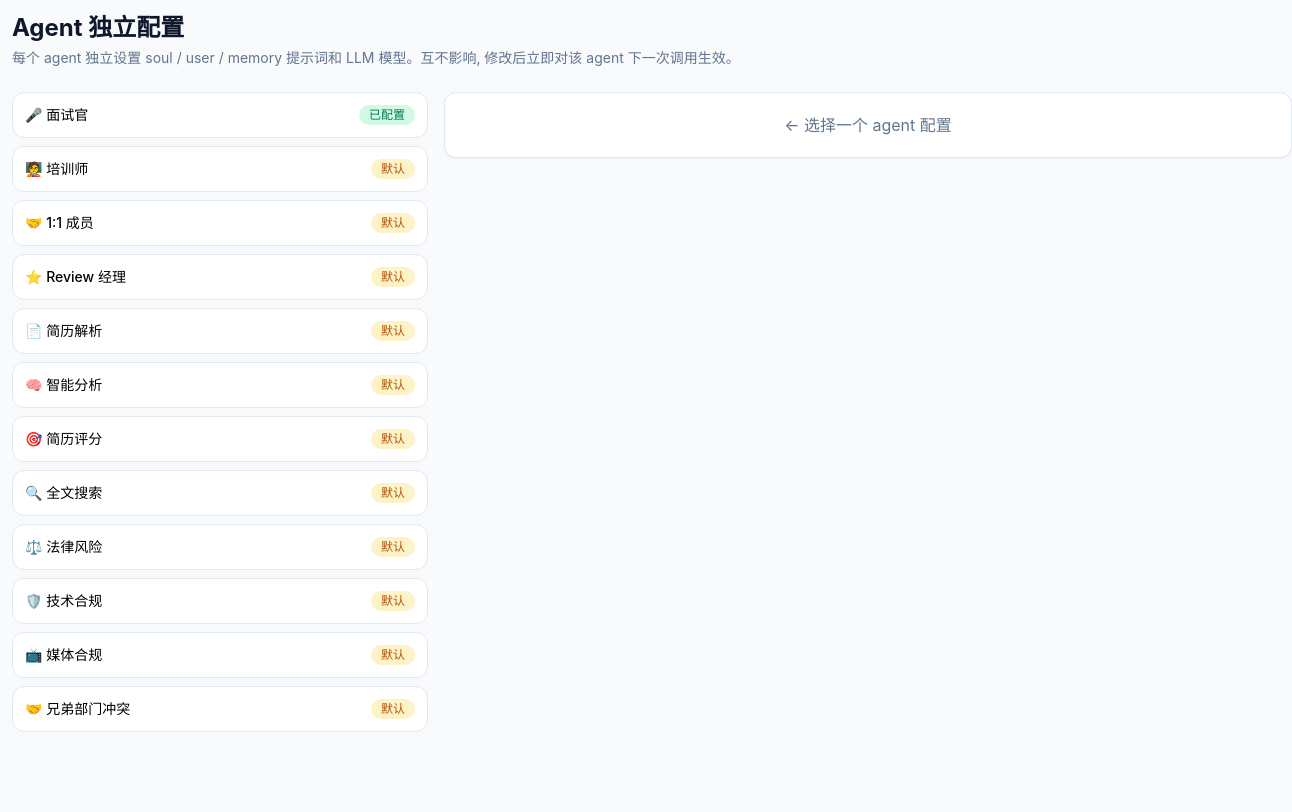
Test case: V34 AgentConfig page › opens editor with empty defaults when clicking unconfigured kind
This screenshot has width=1292, height=812.
Check: the element with test id "agent-config-list" is shown, box [12, 92, 428, 732]
What coordinates should you click on to do the following:
click the text "🧑‍🏫 培训师"
I would click on:
 (57, 169)
Its box is [25, 159, 88, 179].
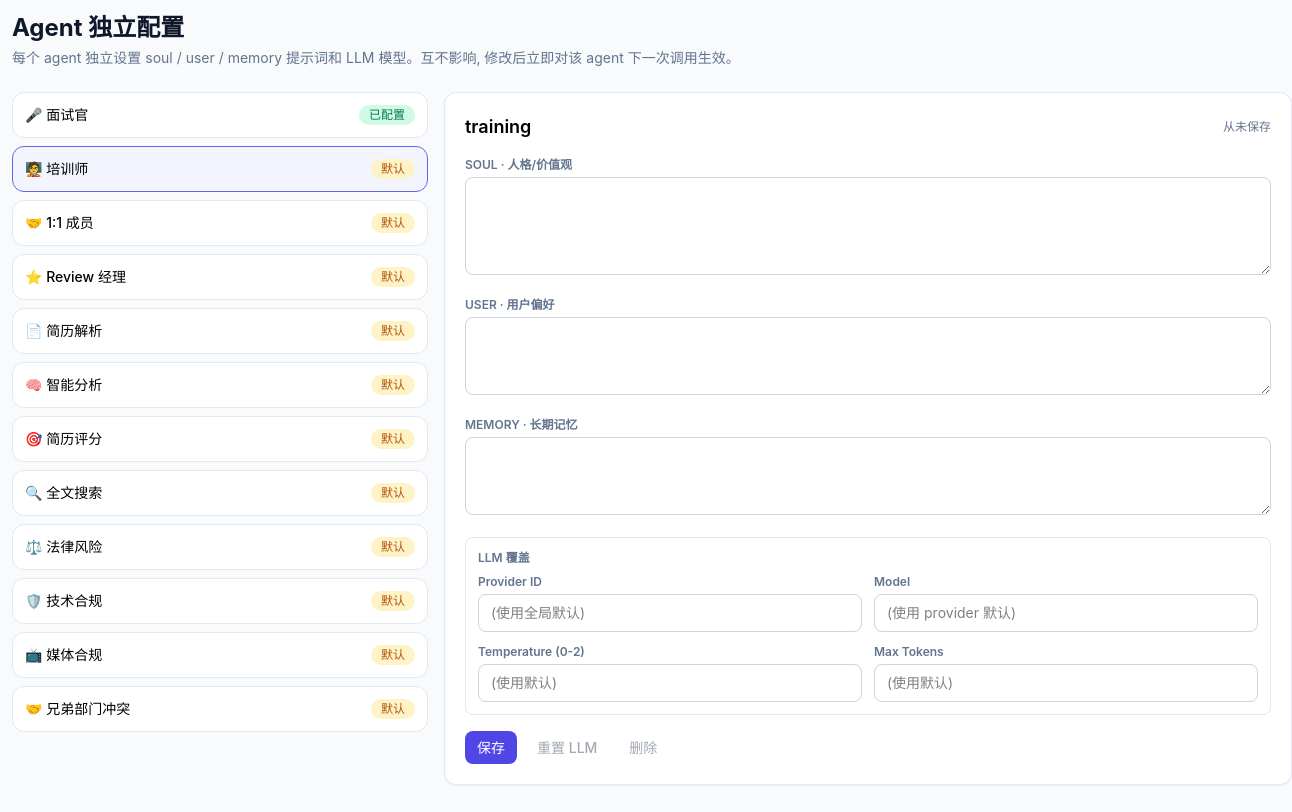
Check: the text box with test id "agent-config-soul-training" is empty, box [465, 177, 1271, 275]
Check: the element with test id "agent-config-editor-training" is shown, box [444, 92, 1291, 785]
